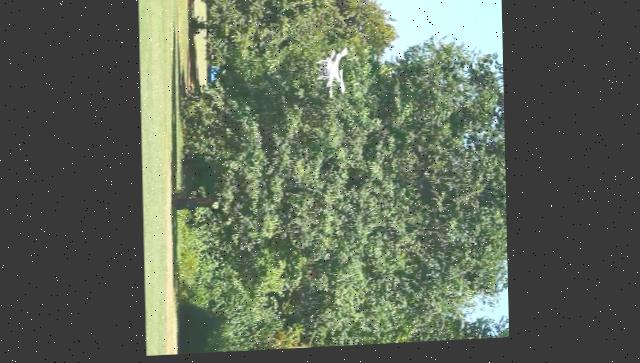drone: (317, 50, 349, 98)
